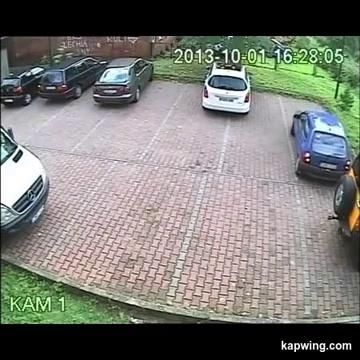car: (0, 126, 49, 235), (290, 110, 351, 180), (328, 153, 359, 269), (38, 56, 107, 99), (93, 57, 153, 103), (202, 62, 250, 113), (1, 65, 45, 105)
